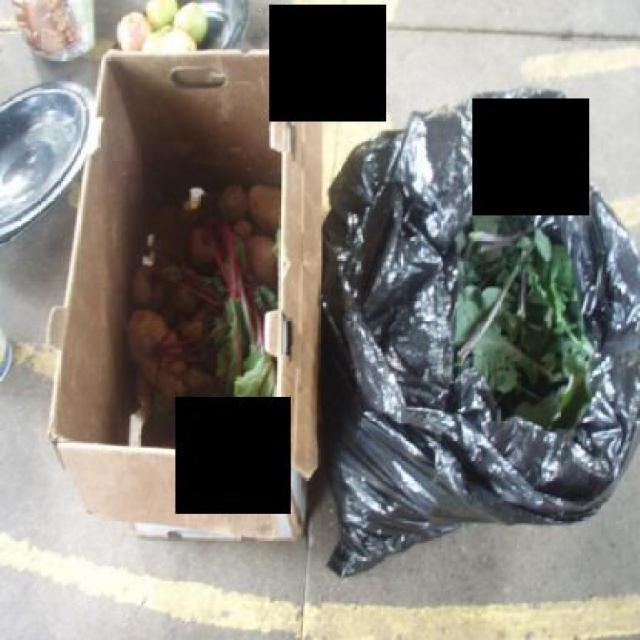plastic bag: (320, 81, 640, 578)
